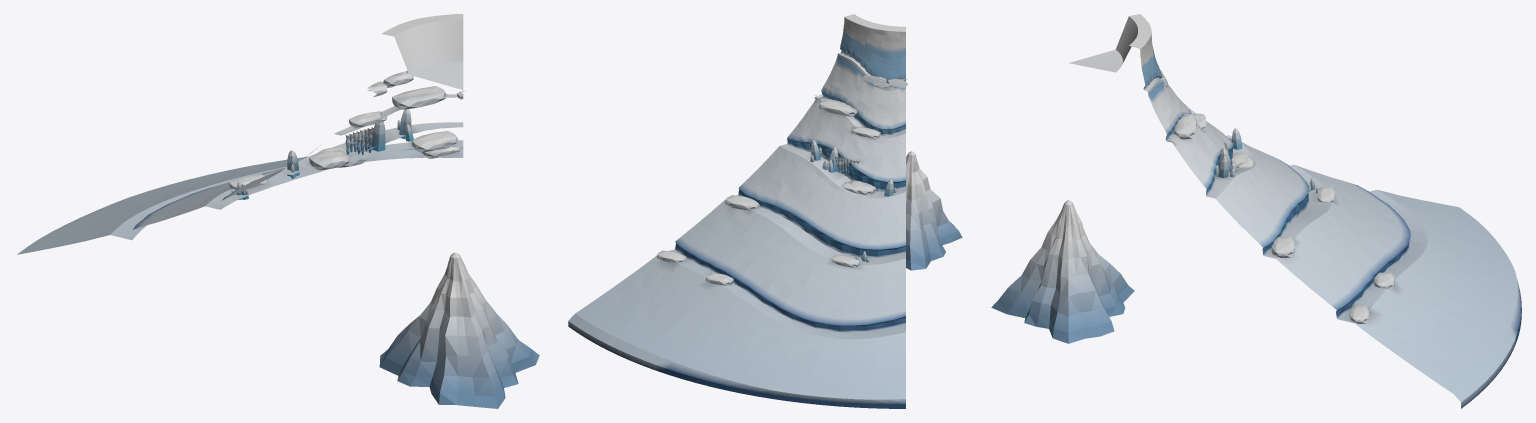
Rendered from glacier-s4-DutWKrA2.glb.
The picture shows the model from 3 angles, left to right: view 1: azimuth 30°, elevation 25°; view 2: azimuth 150°, elevation 25°; view 3: azimuth 270°, elevation 25°; orthographic projection. The views are drawn at different scales.
Visible parts, largest first — view 1: sc_landmark_1, sc_peak_0; view 2: sc_landmark_1, sc_peak_0; view 3: sc_landmark_1, sc_peak_0.
Part boxes in pixels (<box>): sc_landmark_1: <box>17,14,465,254</box>; sc_peak_0: <box>379,252,539,408</box>; sc_landmark_1: <box>568,14,907,408</box>; sc_peak_0: <box>906,151,962,270</box>; sc_landmark_1: <box>1069,14,1521,408</box>; sc_peak_0: <box>991,200,1134,343</box>.
Size of the model in its own units: 416 by 286 by 487.
